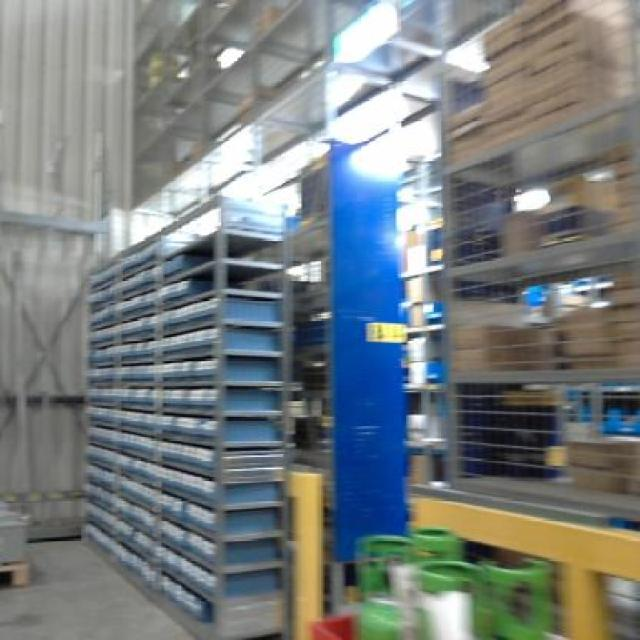ground: (0, 534, 204, 638)
pallet: (0, 555, 40, 595)
